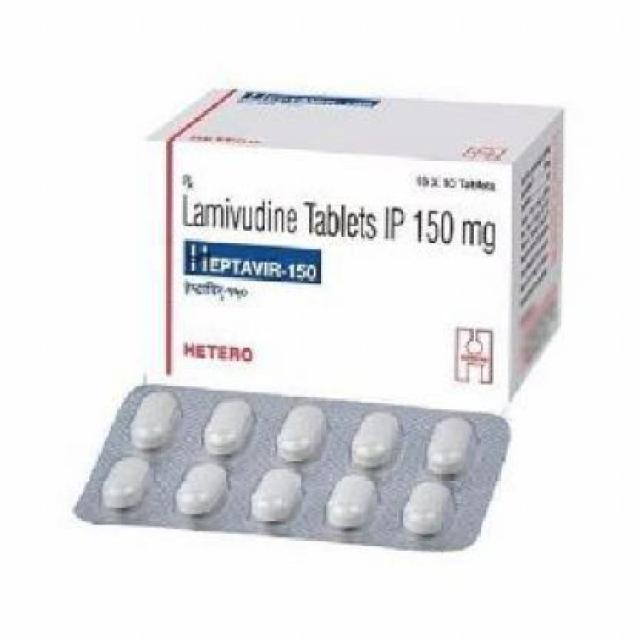B3: (112, 376, 474, 546)
